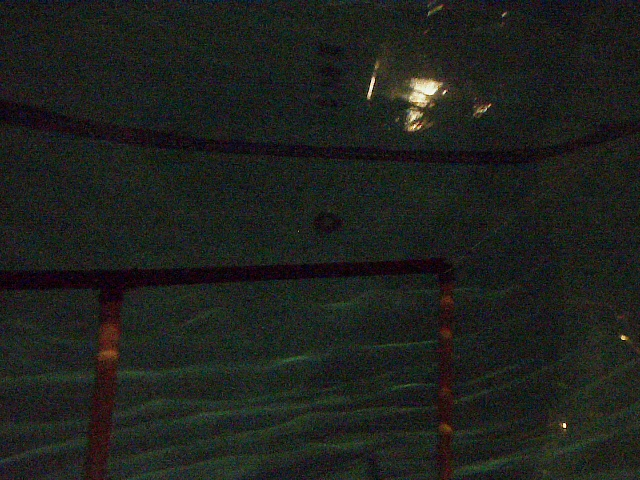Gate: (80, 295, 128, 480), (434, 277, 458, 480)
